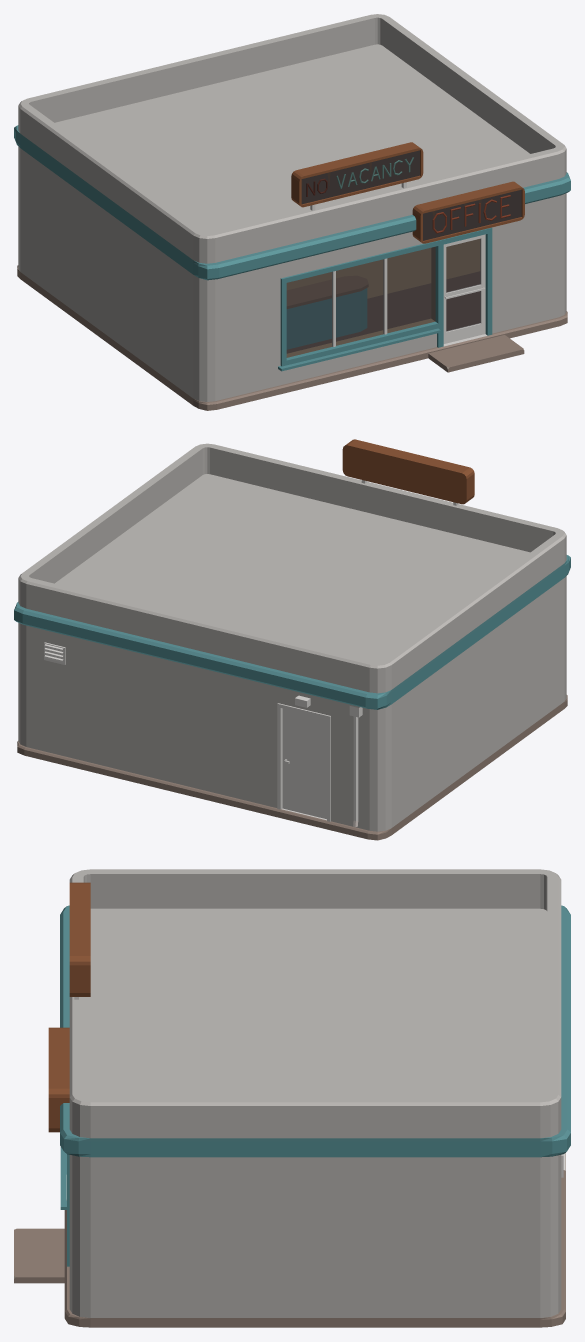
Rendered from motel-office-104c3a.glb.
3 renders of one model, top to bottom at view 1: azimuth 30°, elevation 25°; view 2: azimuth 150°, elevation 25°; view 3: azimuth 270°, elevation 25°, orthographic. The views are drawn at different scales.
Visible parts, largest first — view 1: office, office-glass, door-leaf-glass, door-leaf; view 2: office; view 3: office.
Part boxes in pixels (bbox=[...]): office: bbox=[14, 14, 570, 410]; office-glass: bbox=[286, 247, 435, 357]; door-leaf-glass: bbox=[446, 238, 480, 331]; door-leaf: bbox=[443, 234, 485, 343]; office: bbox=[14, 439, 570, 840]; office: bbox=[14, 869, 570, 1327].
Size of the model in its own units: 8 by 4.34 by 8.
